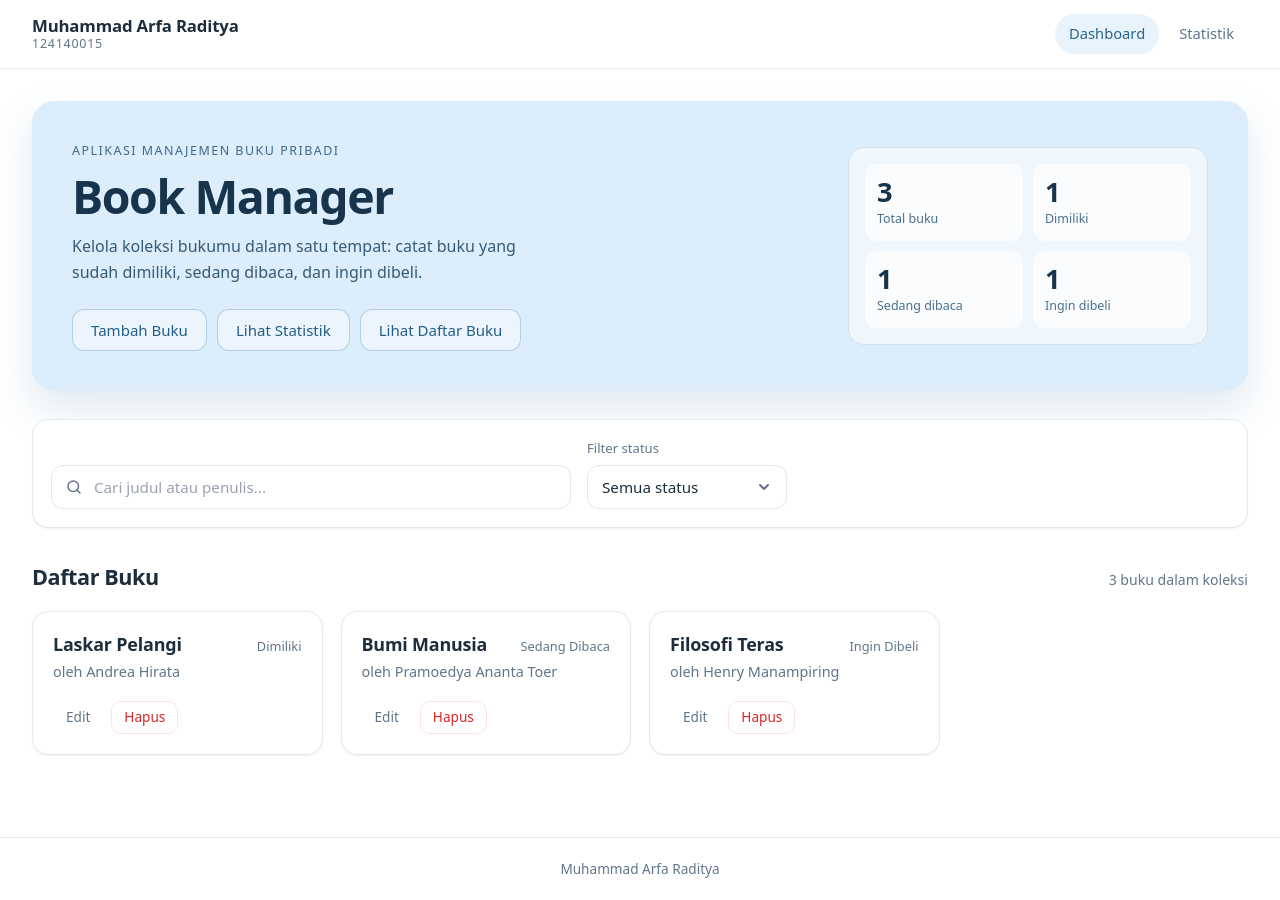
Dashboard dan manajemen buku › menggabungkan pencarian judul/penulis dengan filter status
In the search field named "Cari buku": (311, 487) [51,465,571,509], type "bumi"
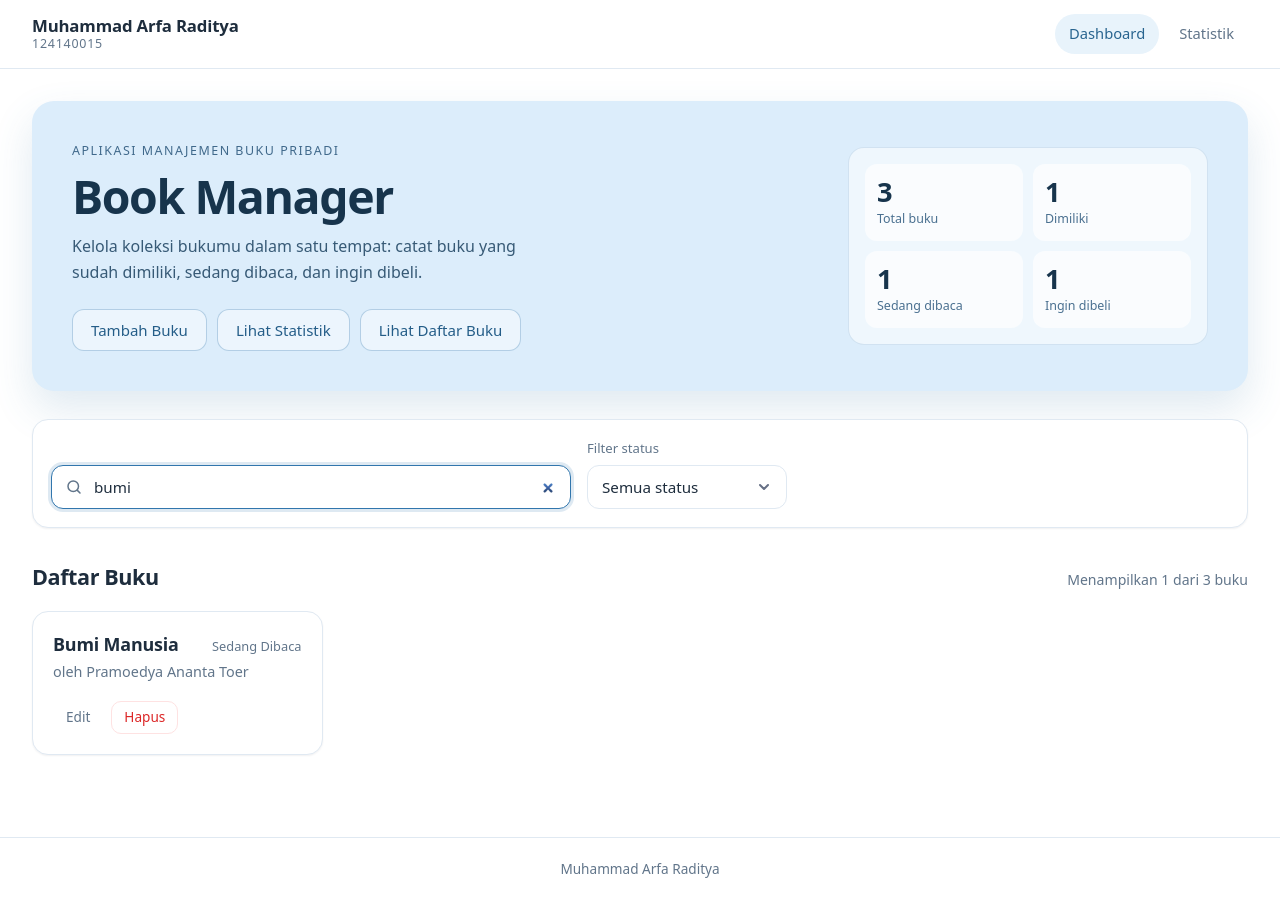
Check: the heading "Bumi Manusia" is shown, box [53,632,179,656]
Check: the heading "Laskar Pelangi" is gone
Check: the text "Menampilkan 1 dari 3 buku" is shown, box [1067,569,1248,592]
Select "Dimiliki" in the dropdown labelled "Filter status": (687, 487) [587,465,787,509]
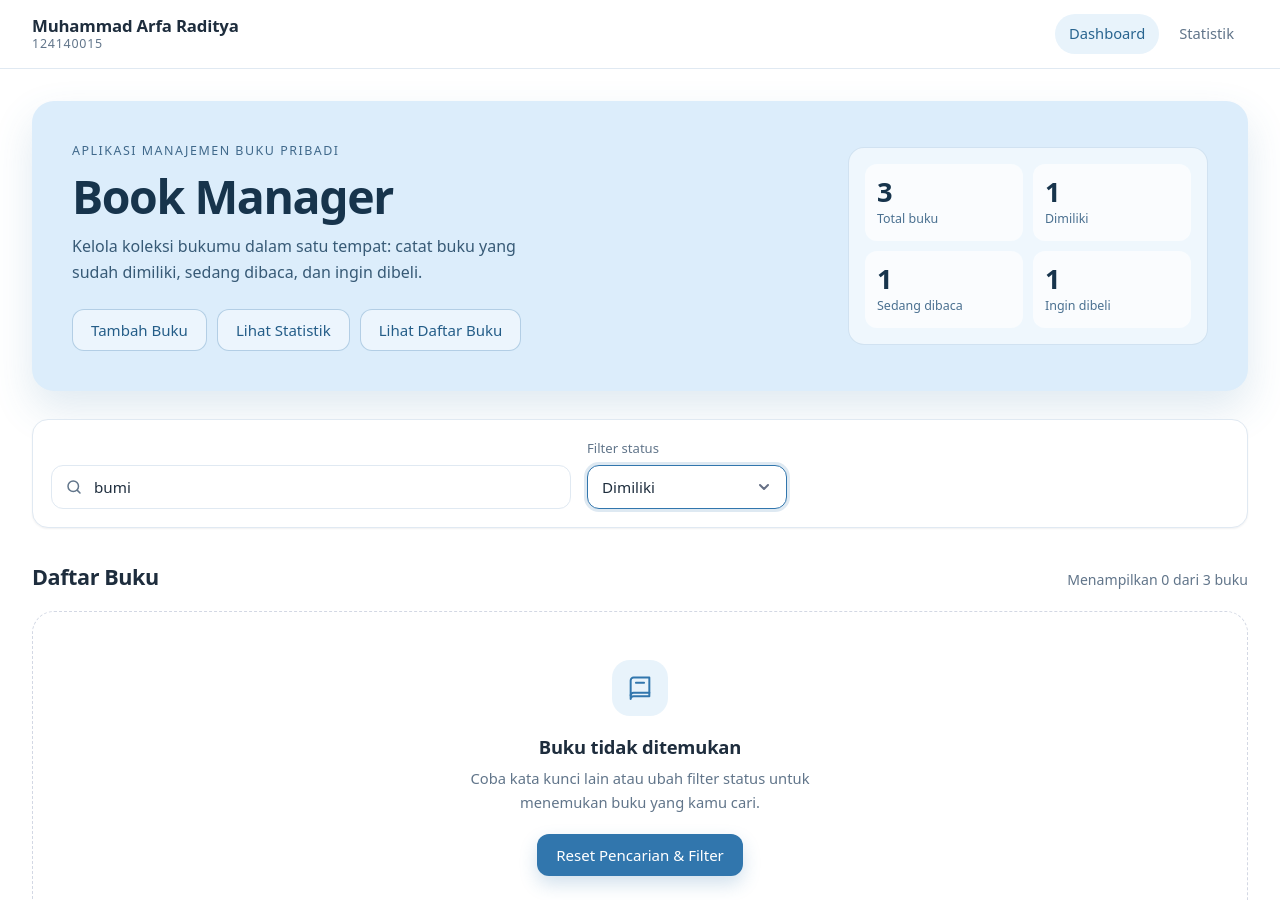
Check: the heading "Buku tidak ditemukan" is shown, box [539,732,741,761]
Select "Sedang Dibaca" in the dropdown labelled "Filter status": (687, 487) [587,465,787,509]
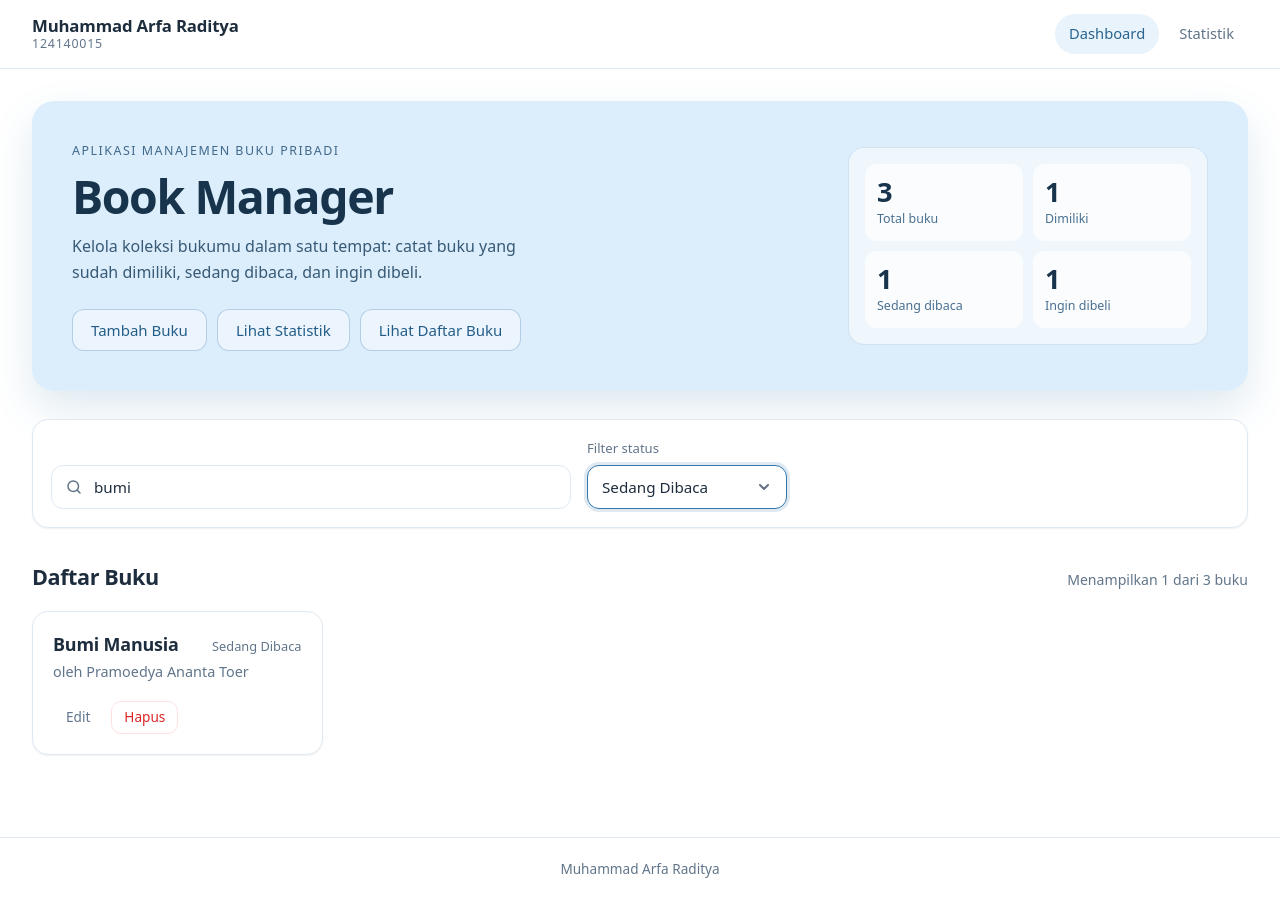
Check: the heading "Bumi Manusia" is shown, box [53,632,179,656]
Clear the search field named "Cari buku": (311, 487) [51,465,571,509]
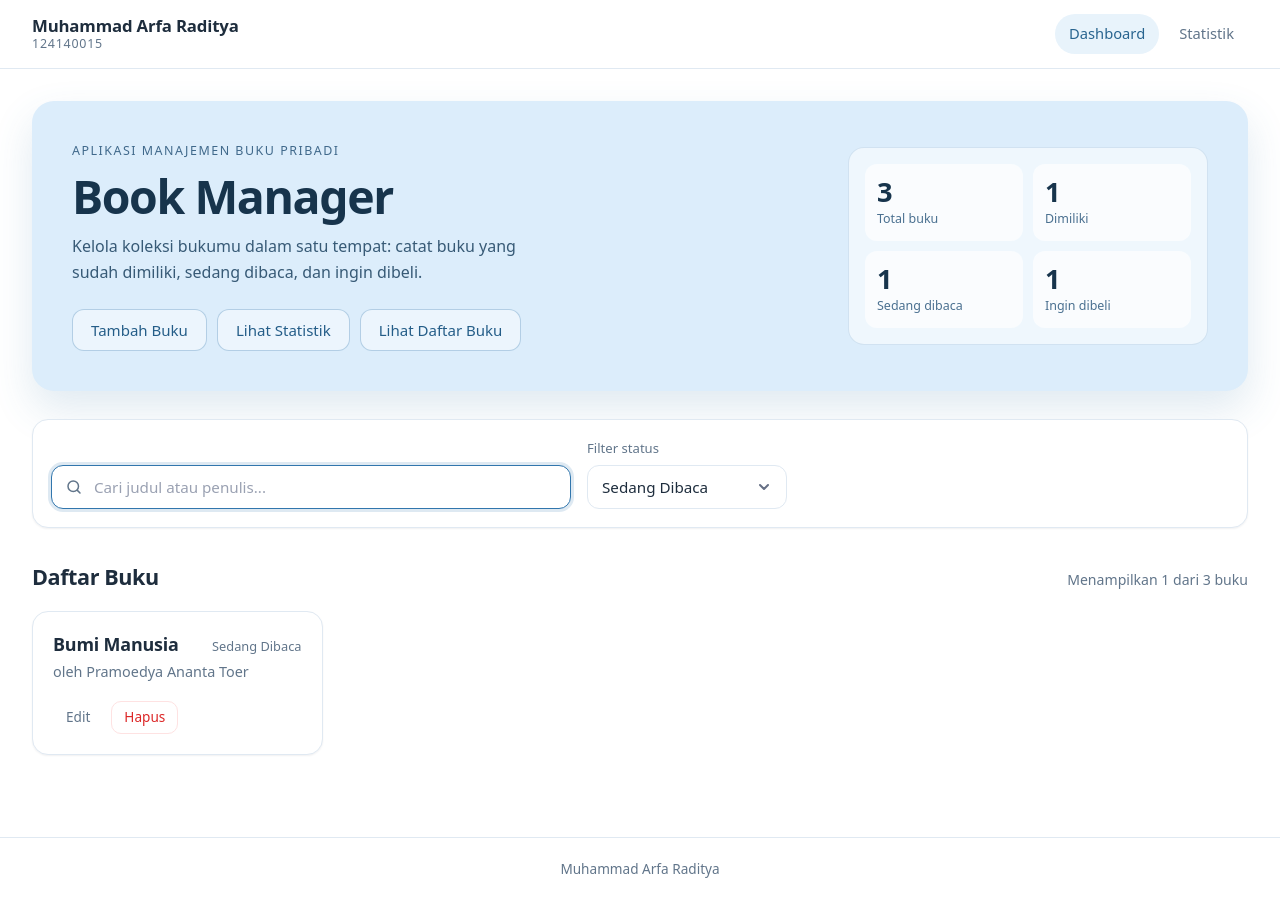
Select "Semua status" in the dropdown labelled "Filter status": (687, 487) [587,465,787,509]
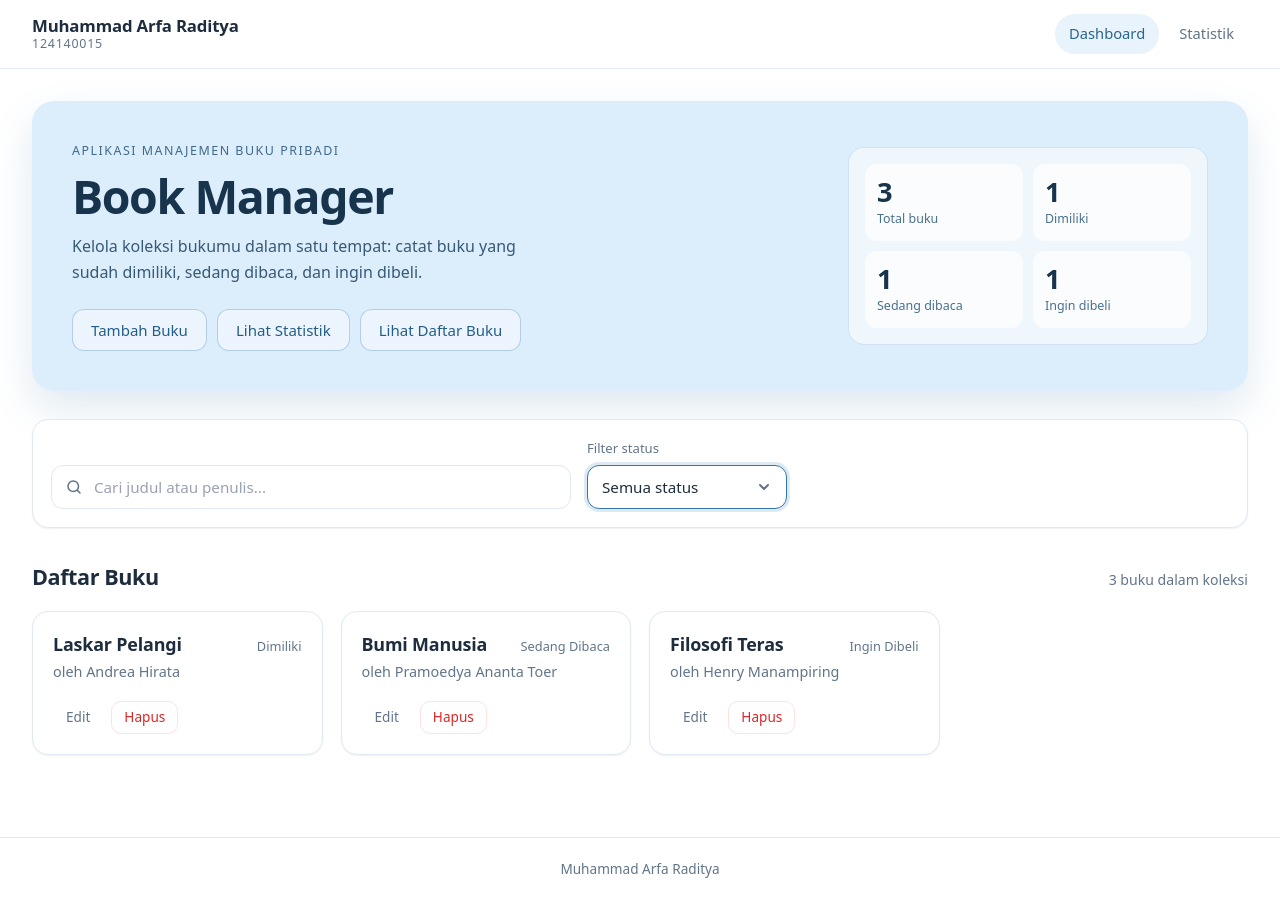
In the search field named "Cari buku": (311, 487) [51,465,571,509], type "andrea"
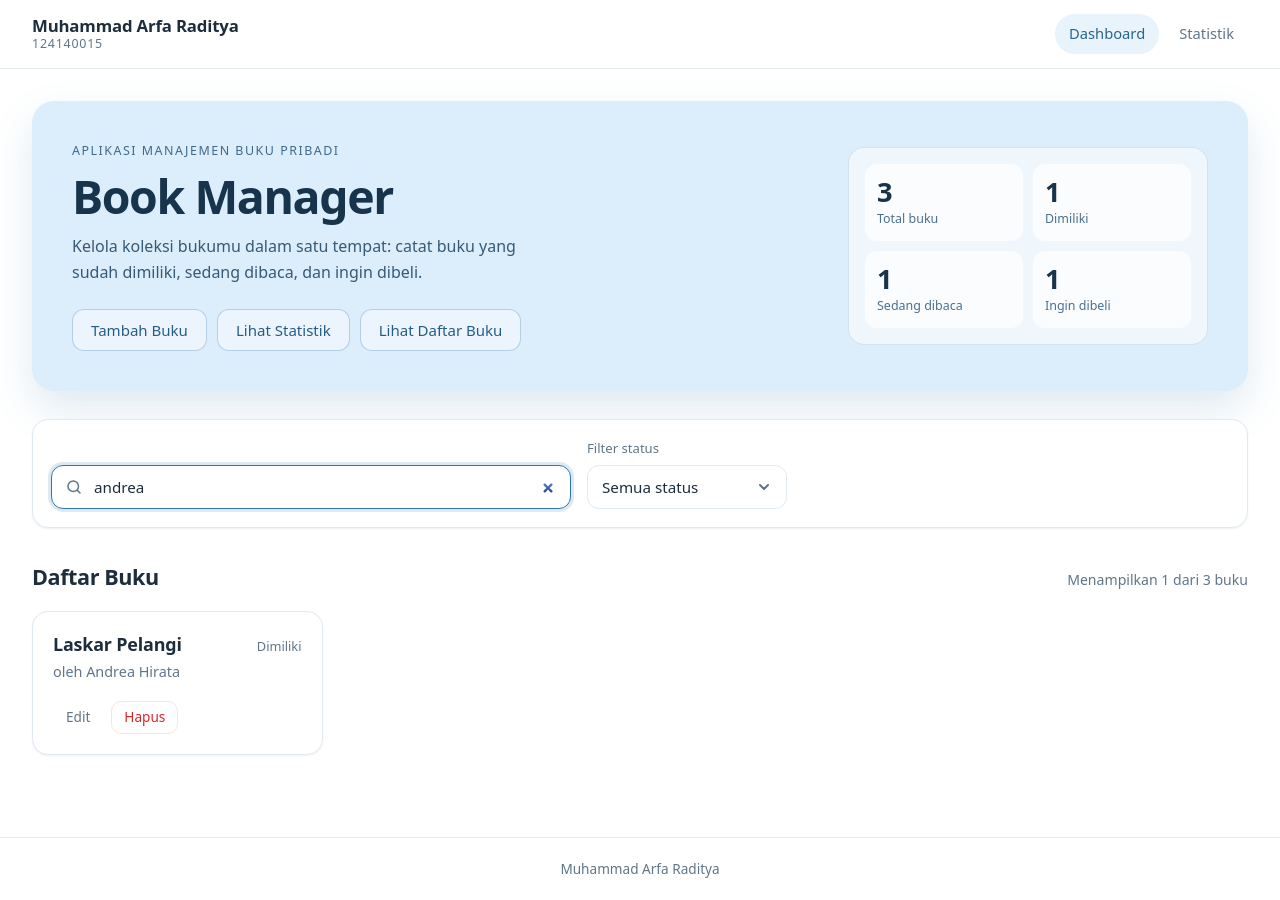
Check: the heading "Laskar Pelangi" is shown, box [53,632,182,656]
Check: the heading "Bumi Manusia" is gone
